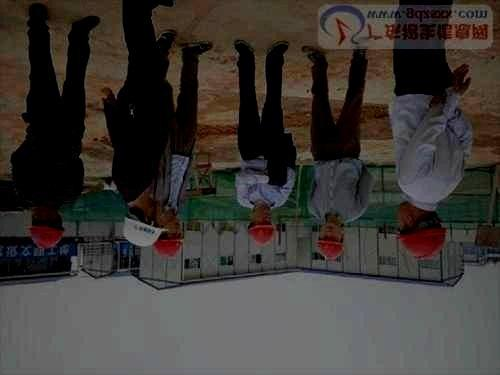helmet: (396, 201, 448, 261), (122, 196, 170, 248), (25, 210, 66, 251), (152, 213, 186, 258), (246, 205, 277, 247), (315, 221, 345, 262)
